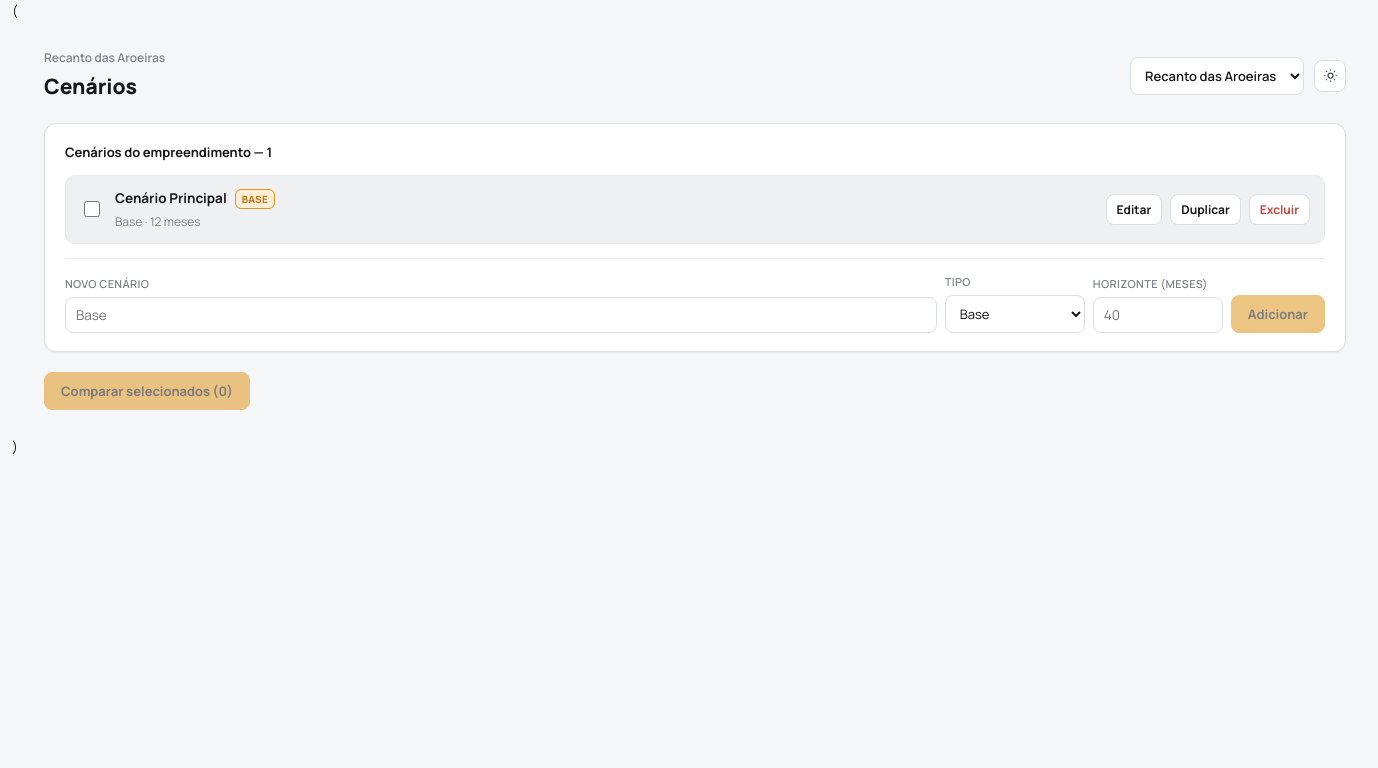
Scenario: CenariosPage › mostra as diferenças de premissas por cenário comparado
The image size is (1378, 768).
Click the checkbox at (92, 209), box [84,201,100,217]
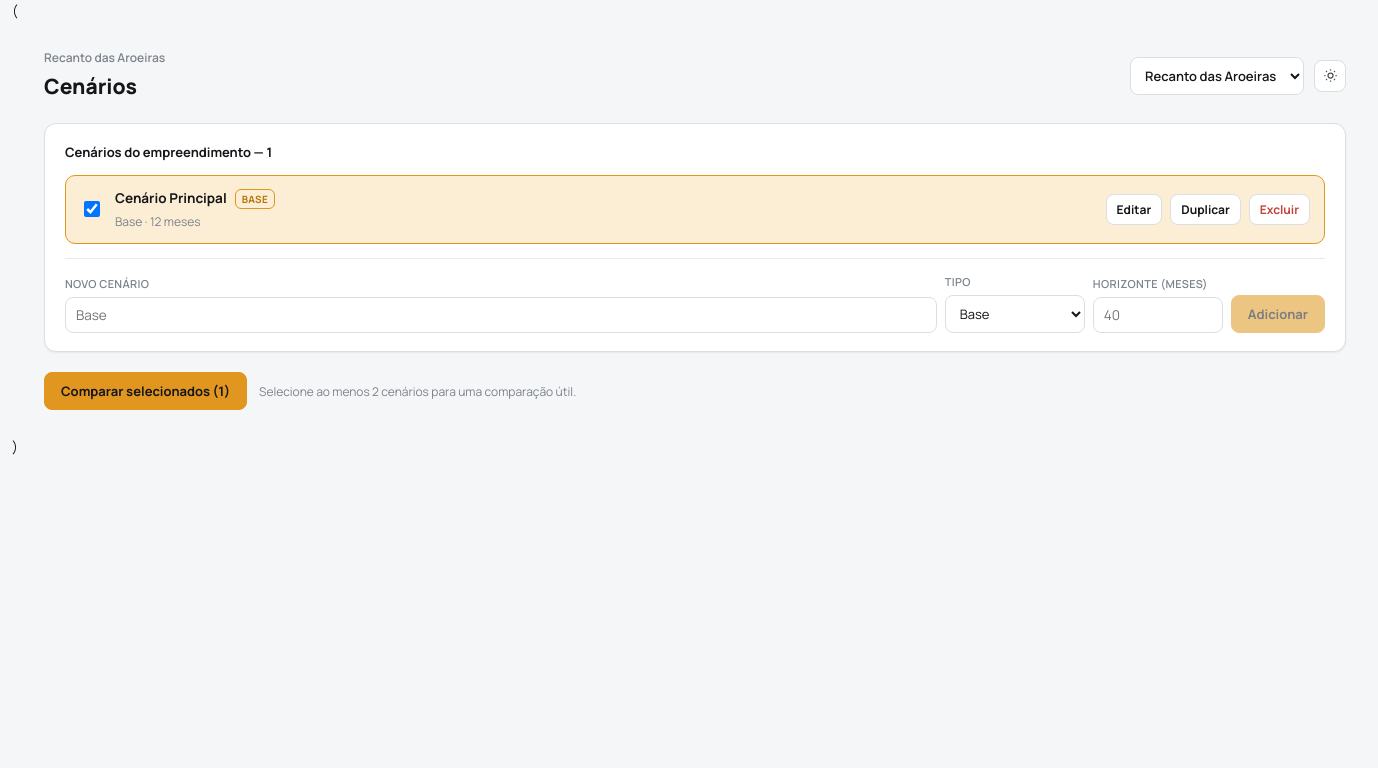
Click the button "Comparar selecionados (1)" at (146, 391), box [44,372,247,410]
(page scrolled)
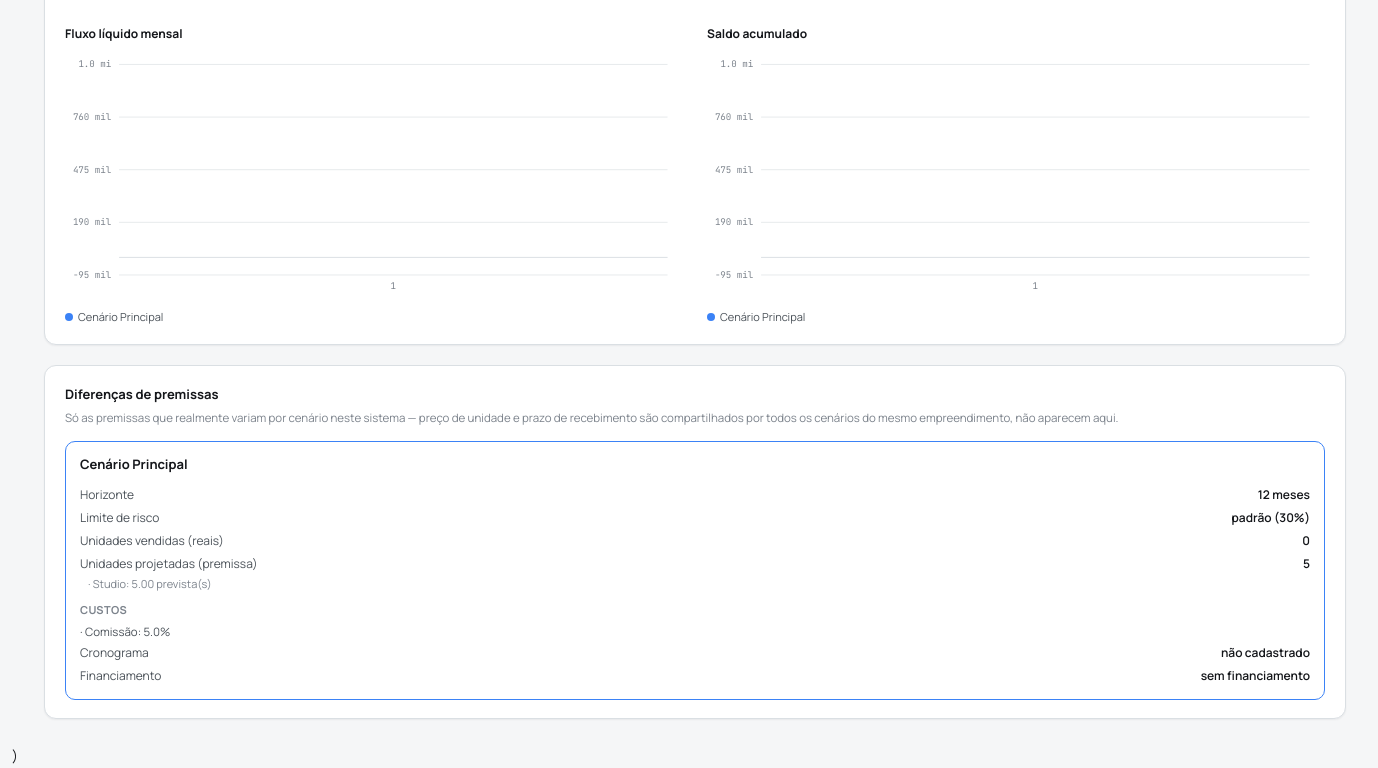
expect the text "Diferenças de premissas" is shown: met, box [65,385,218,403]
expect the text "· Studio: 5.00 prevista(s)" is shown: met, box [88,576,212,592]
expect the text "· Comissão: 5.0%" is shown: met, box [80,624,170,639]
